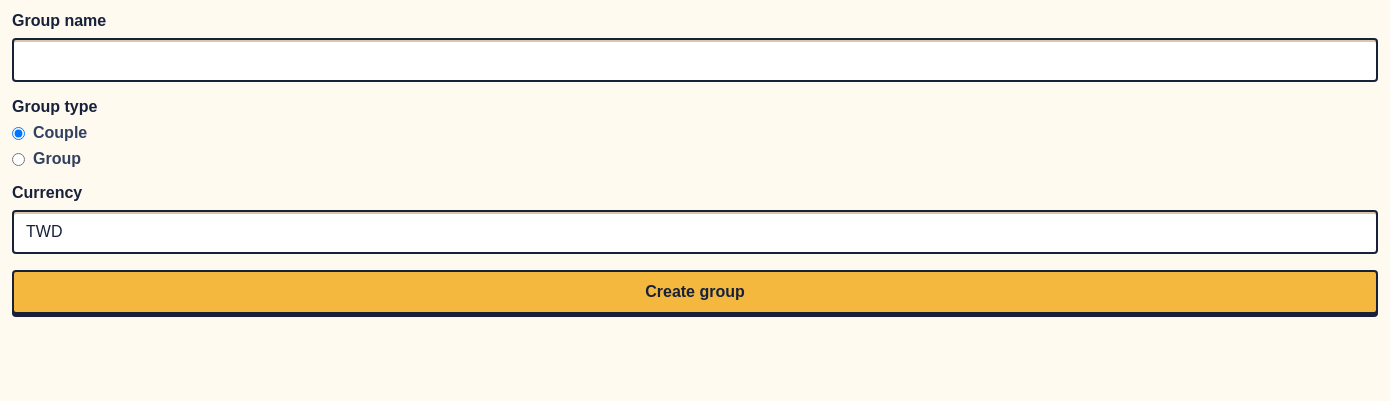
Test: GroupForm › keeps form values and shows backend field errors
The image size is (1390, 401).
Type "我們的生活基金" into the field labelled "Group name" at (695, 60), box [12, 38, 1378, 82]
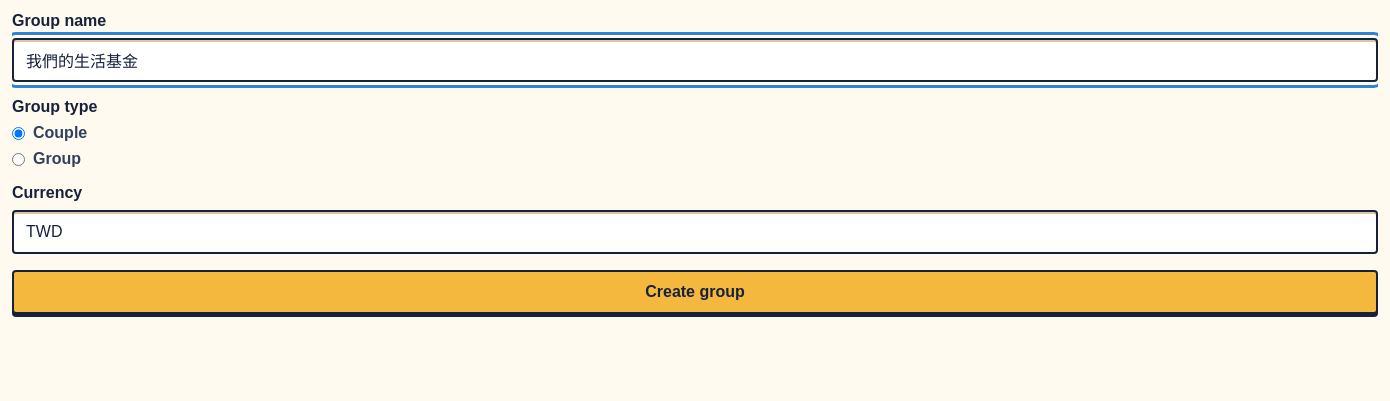
Click the button "Create group" at (695, 292), box [12, 270, 1378, 314]
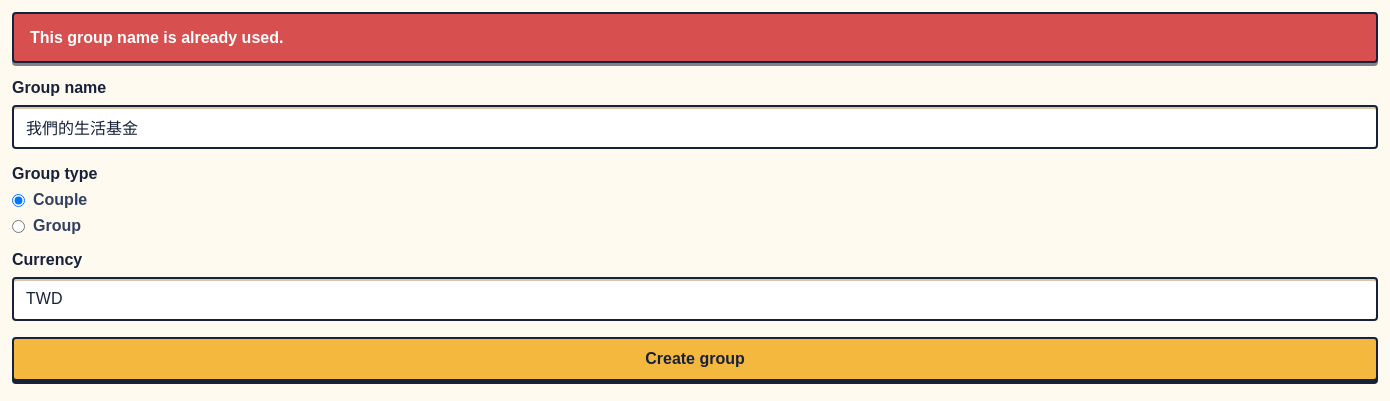
Result: the message reads "This group name is already used." at [30, 29, 283, 46]
